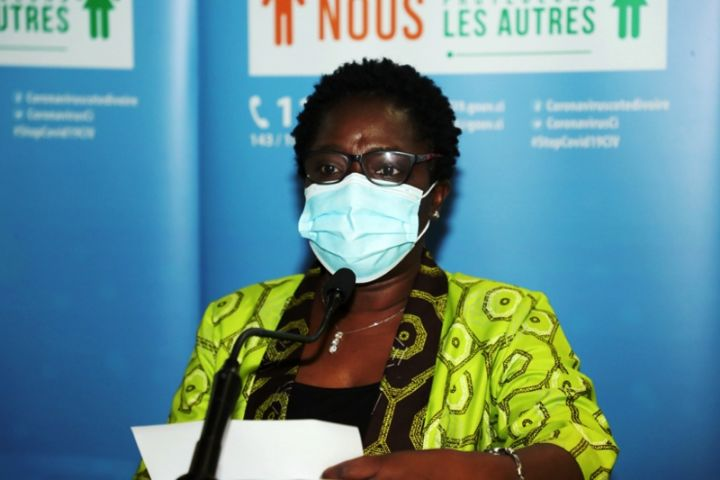with_mask: (304, 133, 425, 290)
